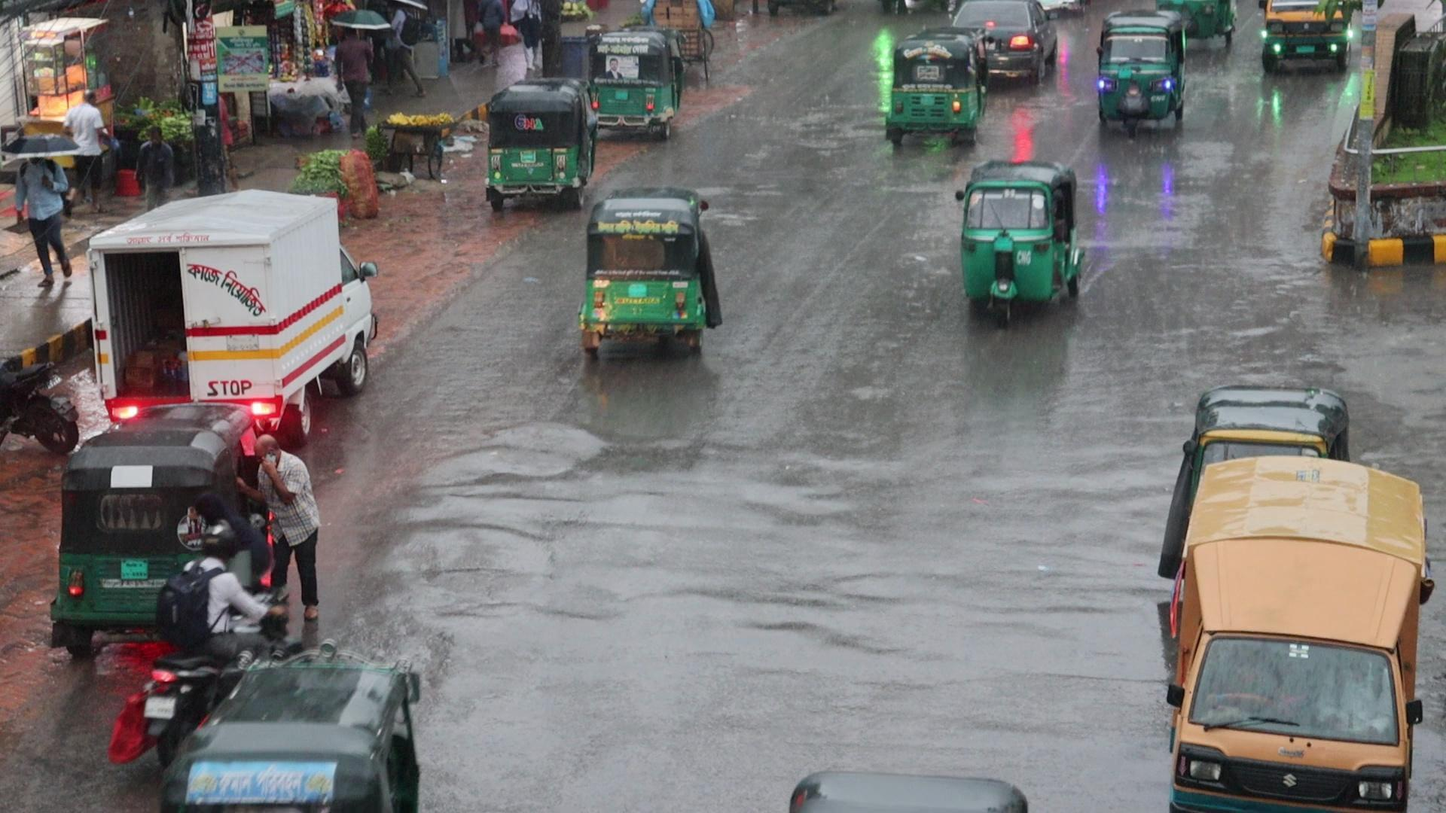Truck: (1171, 443, 1426, 813)
